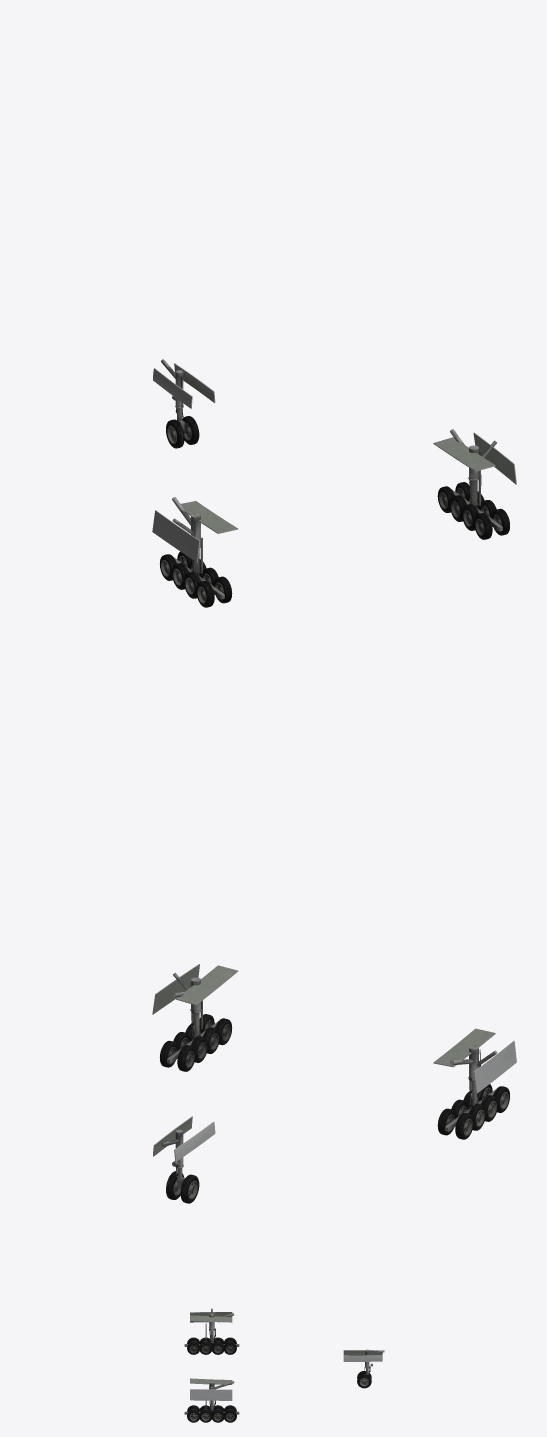
The model's file is e_vulcan_gear.glb.
3 views of the same model, one above another, from view 1: azimuth 30°, elevation 25°; view 2: azimuth 150°, elevation 25°; view 3: azimuth 270°, elevation 25° (orthographic). The views are drawn at different scales.
Visible parts, largest first — view 1: body|VUL_paint; view 2: body|VUL_paint; view 3: body|VUL_paint.
Boxes of the visible parts, x1=… form: body|VUL_paint: x1=152, y1=359, x2=516, y2=607; body|VUL_paint: x1=152, y1=964, x2=516, y2=1203; body|VUL_paint: x1=184, y1=1308, x2=384, y2=1422.
Size of the model in its own units: 11.1 by 10.05 by 30.72.
Materials: 1 (1 with a texture image).
